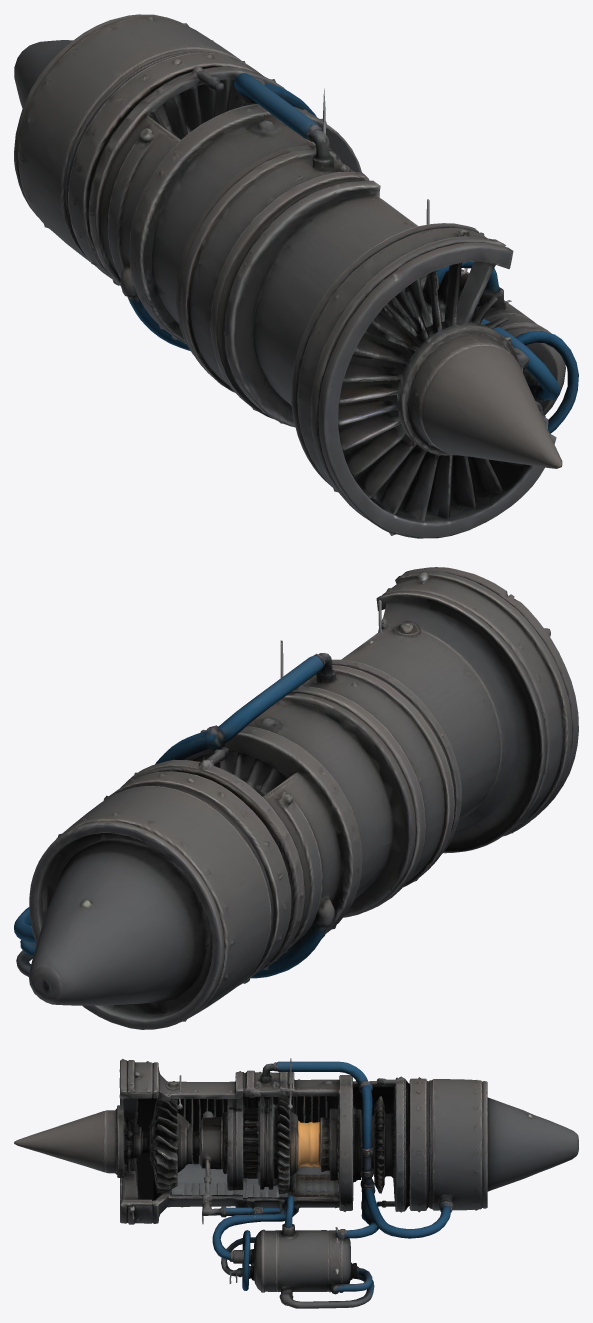
Rendered from DRONE ENGINE.glb.
The picture shows the model from 3 angles, top to bottom: view 1: azimuth 30°, elevation 25°; view 2: azimuth 150°, elevation 25°; view 3: azimuth 270°, elevation 25°; orthographic projection. The views are drawn at different scales.
Visible parts, largest first — view 1: tripo_node_447b43b9-b451-403d-9d4e-fd342982a6f7; view 2: tripo_node_447b43b9-b451-403d-9d4e-fd342982a6f7; view 3: tripo_node_447b43b9-b451-403d-9d4e-fd342982a6f7.
Boxes of the visible parts, <box> form: tripo_node_447b43b9-b451-403d-9d4e-fd342982a6f7: <box>14,14,578,538</box>; tripo_node_447b43b9-b451-403d-9d4e-fd342982a6f7: <box>14,567,578,1029</box>; tripo_node_447b43b9-b451-403d-9d4e-fd342982a6f7: <box>14,1058,578,1308</box>.
Size of the model in its own units: 0.4244 by 0.3759 by 1.
1 material, 1 textured.
